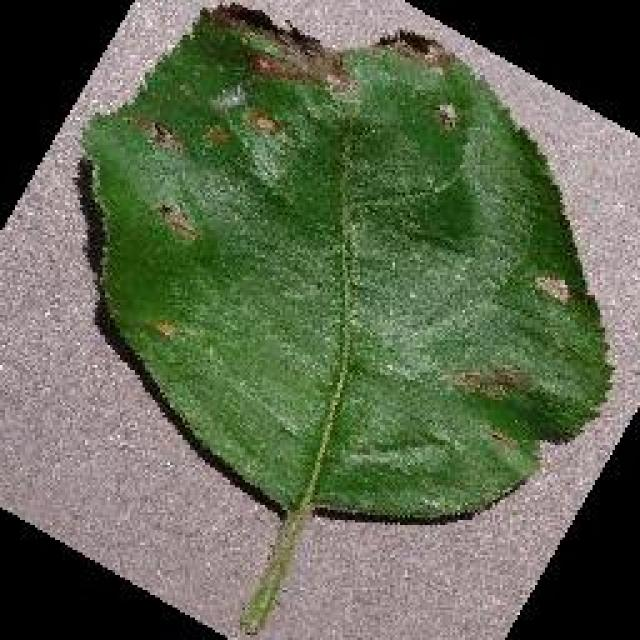Black_rot: (77, 0, 615, 638)
